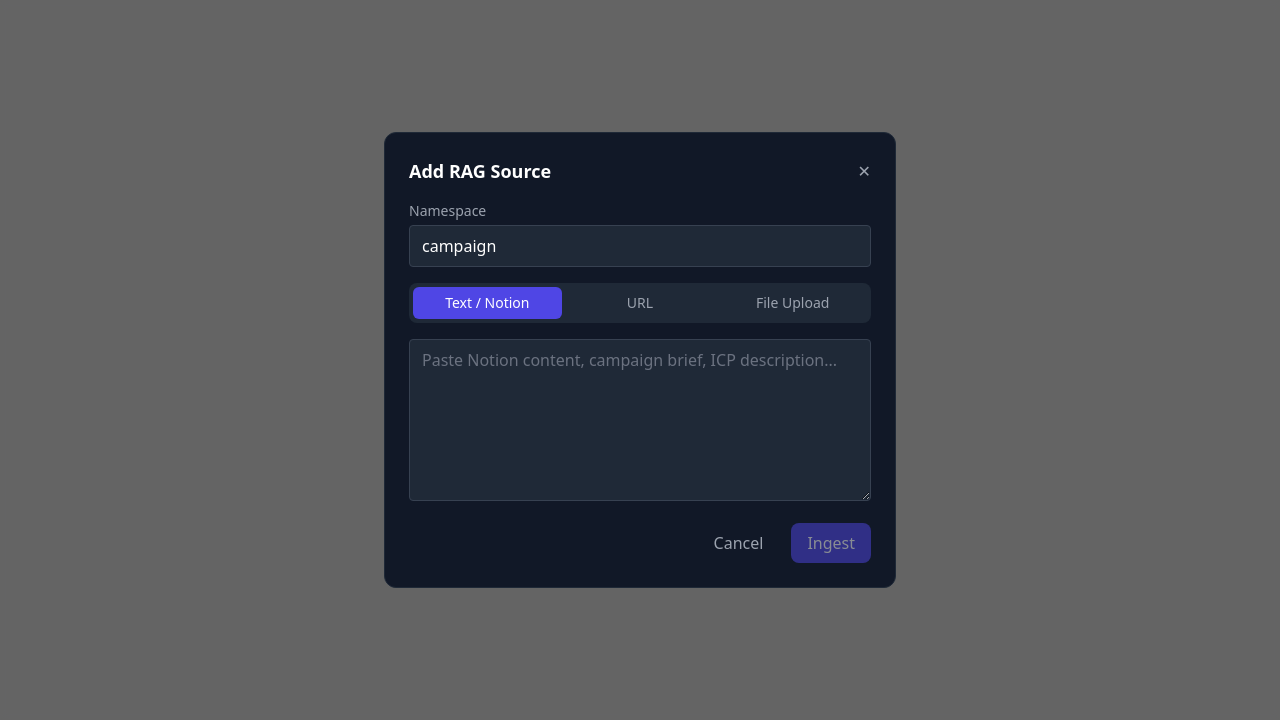
Scenario: RS3: Submit disabled states › submit enabled on URL tab when url is filled
Click the button "URL": click(640, 303) [566, 287, 714, 319]
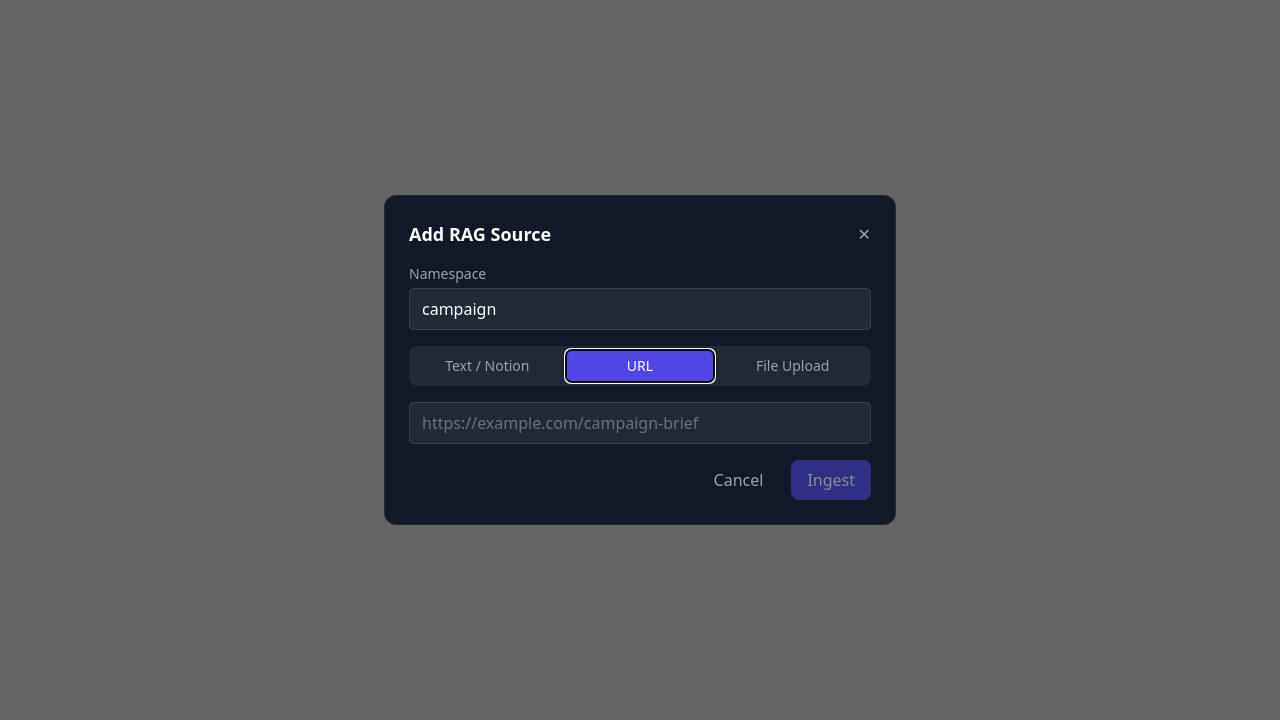
In the field named "url": (640, 423) [409, 402, 871, 444], type "https://example.com"
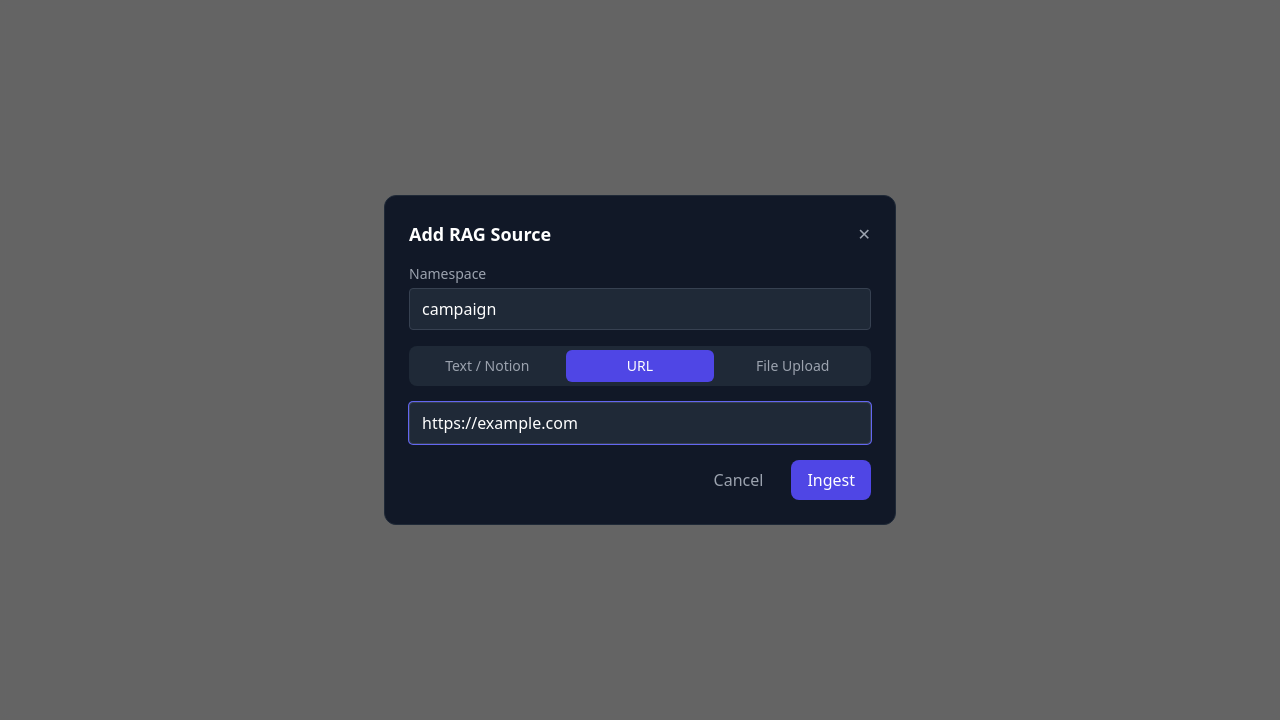
Result: the button "Ingest" is enabled at [791, 460, 871, 500]
